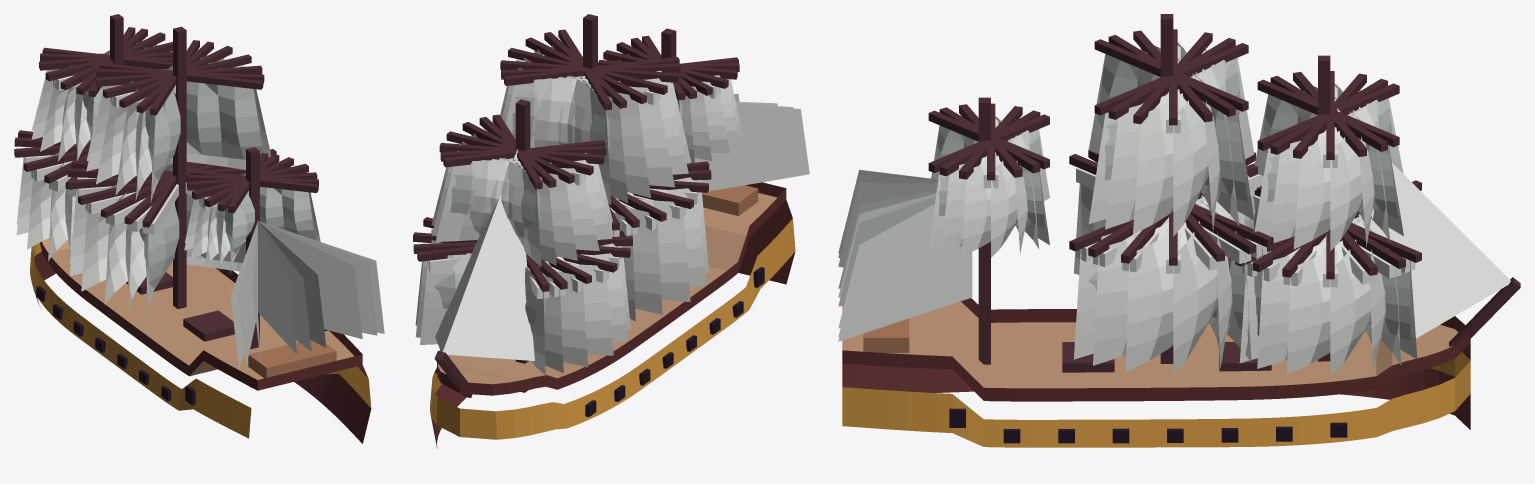
Rendered from ship.merchantman.glb.
3 views of the same model, side by side, from view 1: azimuth 30°, elevation 25°; view 2: azimuth 150°, elevation 25°; view 3: azimuth 270°, elevation 25° (orthographic). The views are drawn at different scales.
Parts seen in each view (by area): view 1: hull, bulwark, full_broad_p_spanker, main, full_irons_p0_main_top, full_irons_s0_spanker, full_irons_p1_main_top, cabin, full_run_main_course, full_beam_p_spanker, full_irons_p0_spanker, full_run_spanker (+65 smaller); view 2: hull, full_close_s_jib, full_close_s_spanker, bulwark, full_run_main_course, full_broad_p_main_top, full_broad_p_main_course, full_beam_p_main_top, full_beam_s_main_top, full_run_main_top, full_run_fore_course, full_beam_s_fore_top (+59 smaller); view 3: hull, bulwark, full_close_p_spanker, full_close_p_jib, full_broad_p_main_course, full_broad_p_fore_course, full_broad_p_main_top, full_run_main_course, full_beam_p_main_course, full_run_main_top, full_beam_p_main_top, full_run_fore_course (+62 smaller).
Part boxes in pixels (<box>): hull: <box>30,238,371,443</box>; bulwark: <box>40,241,362,390</box>; full_broad_p_spanker: <box>258,221,362,338</box>; main: <box>173,26,186,309</box>; full_irons_p0_main_top: <box>145,83,263,159</box>; full_irons_s0_spanker: <box>258,221,297,354</box>; full_irons_p1_main_top: <box>186,81,222,156</box>; cabin: <box>248,340,336,378</box>; full_run_main_course: <box>81,167,172,291</box>; full_beam_p_spanker: <box>260,221,377,335</box>; full_irons_p0_spanker: <box>259,222,326,347</box>; full_run_spanker: <box>259,222,311,351</box>; hull: <box>430,193,795,448</box>; full_close_s_jib: <box>443,149,534,360</box>; full_close_s_spanker: <box>687,104,809,191</box>; bulwark: <box>437,182,786,395</box>; full_run_main_course: <box>614,197,690,301</box>; full_broad_p_main_top: <box>534,49,650,197</box>; full_broad_p_main_course: <box>625,206,662,314</box>; full_beam_p_main_top: <box>551,44,627,203</box>; full_beam_s_main_top: <box>502,70,691,163</box>; full_run_main_top: <box>523,58,674,187</box>; full_run_fore_course: <box>545,261,613,355</box>; full_beam_s_fore_top: <box>432,153,612,235</box>; hull: <box>842,301,1470,447</box>; bulwark: <box>842,298,1470,401</box>; full_close_p_spanker: <box>838,209,972,341</box>; full_close_p_jib: <box>1337,108,1510,338</box>; full_broad_p_main_course: <box>1125,200,1208,371</box>; full_broad_p_fore_course: <box>1287,219,1364,374</box>; full_broad_p_main_top: <box>1133,47,1206,234</box>; full_run_main_course: <box>1173,195,1218,374</box>; full_beam_p_main_course: <box>1093,201,1242,365</box>; full_run_main_top: <box>1173,43,1208,236</box>; full_beam_p_main_top: <box>1105,64,1223,229</box>; full_run_fore_course: <box>1330,214,1371,376</box>.
Size of the model in its own units: 1.34 by 2.18 by 3.26.
